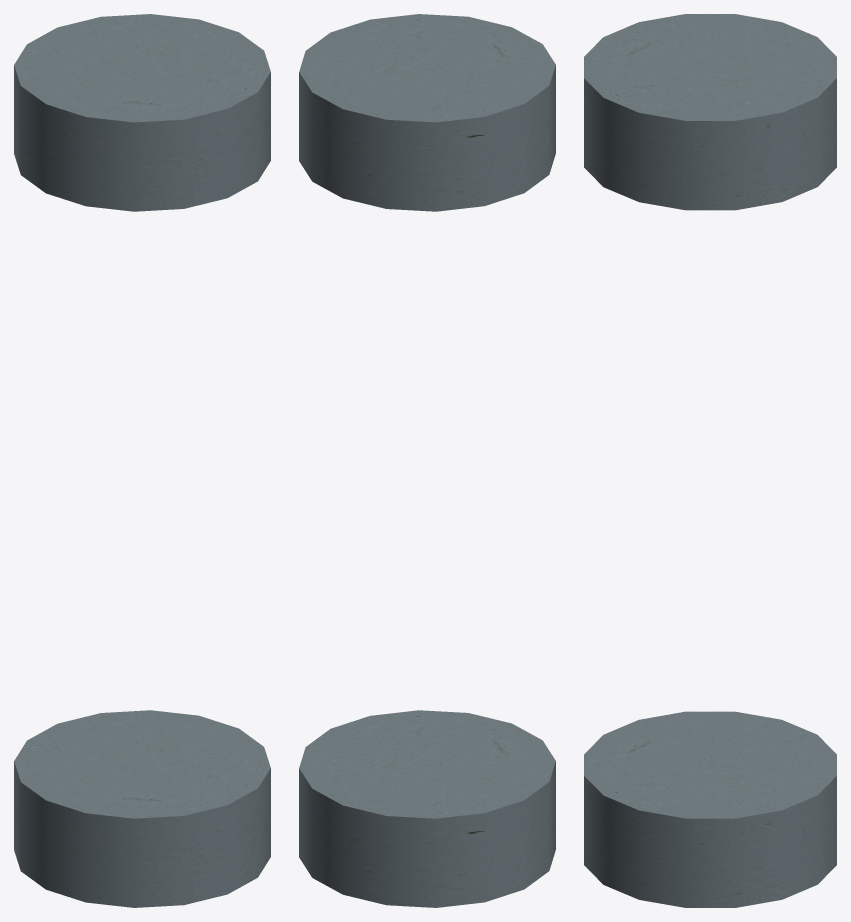
File: Switcher_FlagStands.FBX
The picture shows the model from 3 angles, left to right: view 1: azimuth 30°, elevation 25°; view 2: azimuth 150°, elevation 25°; view 3: azimuth 270°, elevation 25°; orthographic projection.
Parts seen in each view (by area): view 1: Switcher_FlagStands; view 2: Switcher_FlagStands; view 3: Switcher_FlagStands.
Part boxes in pixels (x1,y1,x2,y2): Switcher_FlagStands: [14, 14, 270, 907]; Switcher_FlagStands: [299, 14, 555, 907]; Switcher_FlagStands: [584, 14, 836, 907].
Size of the model in its own units: 7.29 by 7.29 by 25.04.
